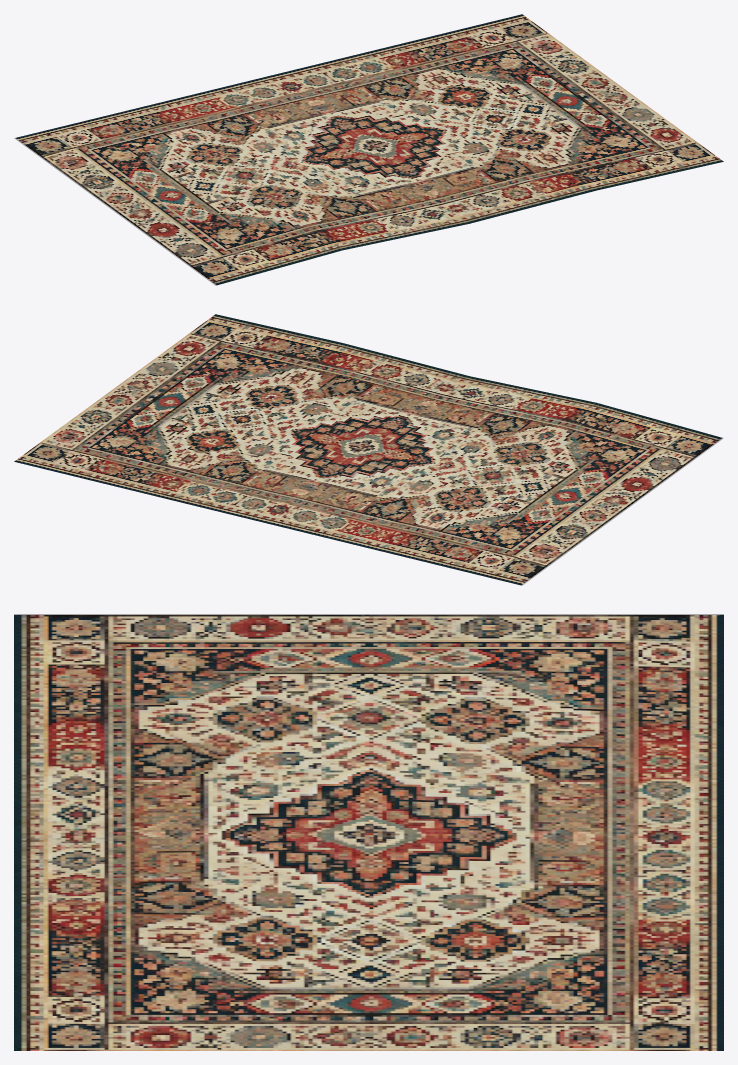
Rendered from Rug02.fbx.
The picture shows the model from 3 angles, top to bottom: view 1: azimuth 30°, elevation 25°; view 2: azimuth 150°, elevation 25°; view 3: azimuth 270°, elevation 25°; orthographic projection. The views are drawn at different scales.
Visible parts, largest first — view 1: Rug02; view 2: Rug02; view 3: Rug02.
Part boxes in pixels (x1,y1,x2,y2): Rug02: [14, 14, 723, 285]; Rug02: [14, 314, 723, 585]; Rug02: [14, 614, 723, 1050].
Bounding box in the file's own units: 114 × 166 × 1.51.
